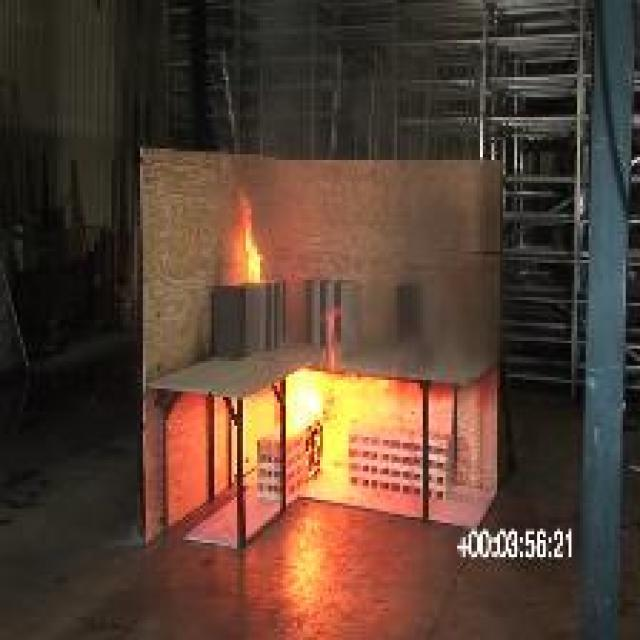Fire: (288, 312, 398, 474), (238, 188, 262, 282)
